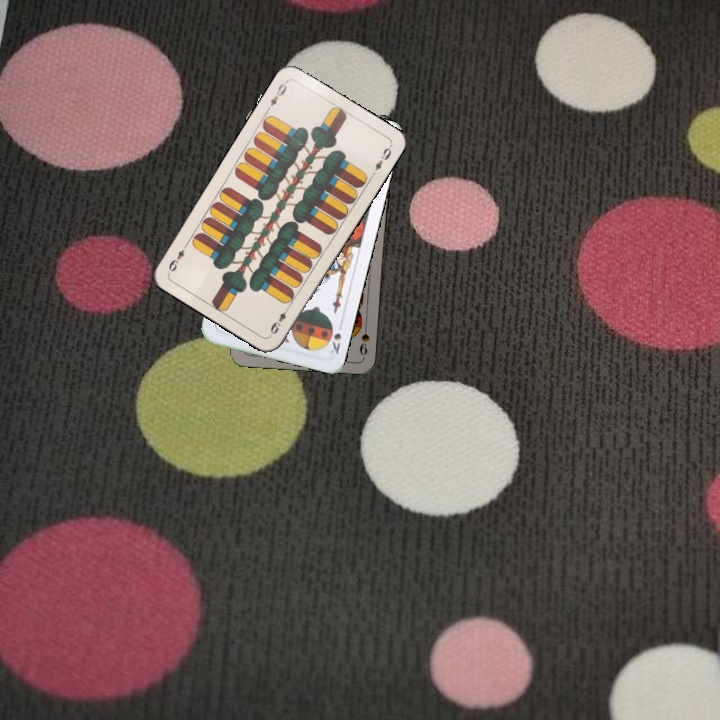E9: (266, 301, 293, 338), (263, 78, 290, 114)
S9: (356, 318, 372, 358)
SK: (326, 329, 344, 357)
